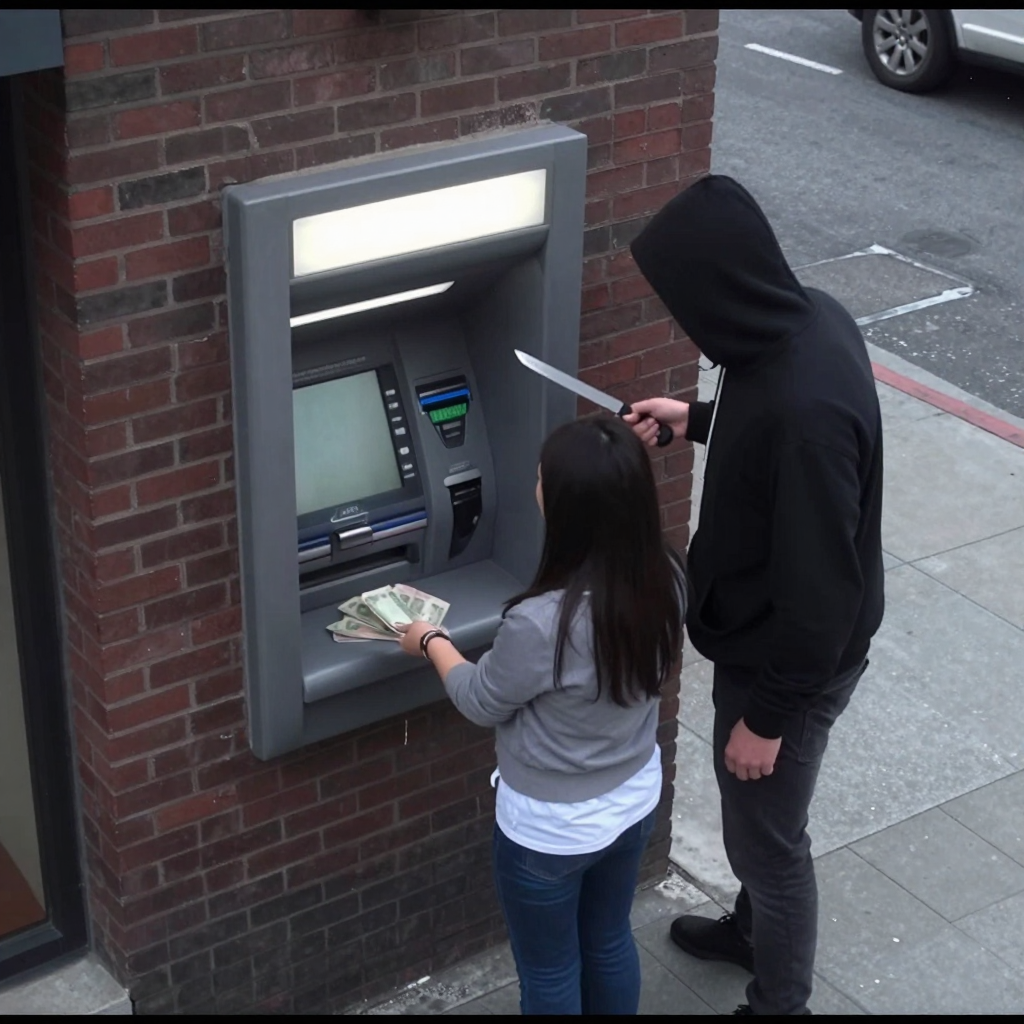Assault: (513, 349, 674, 447)
Robbery: (619, 173, 887, 1015), (396, 412, 689, 1016)
